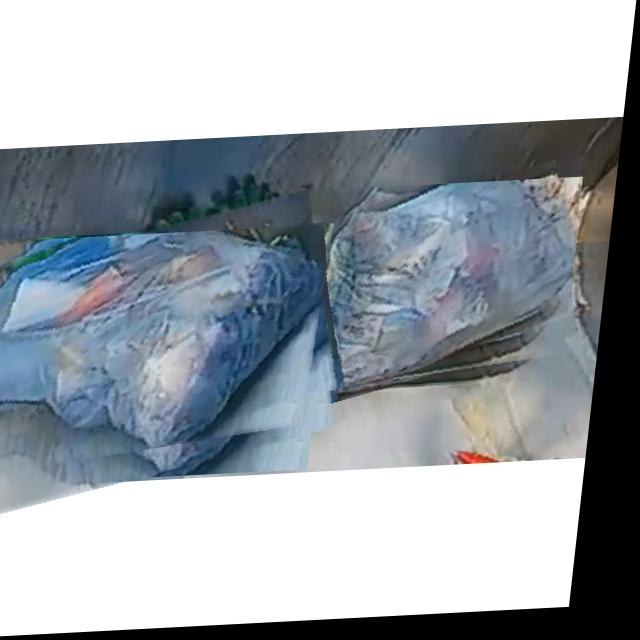other_trashbag: (0, 234, 330, 456), (326, 187, 580, 393)
